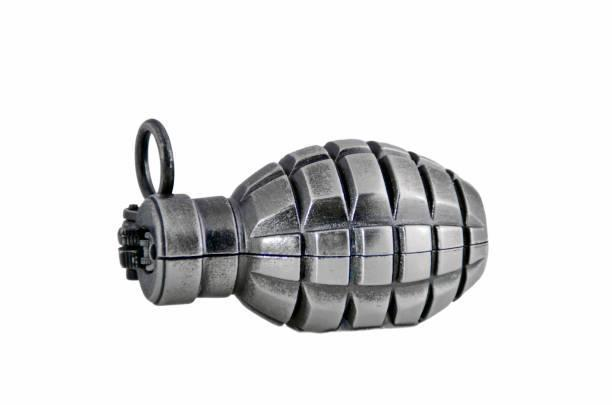Grenade: (116, 117, 488, 333)
